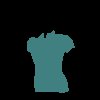polo: (26, 30, 75, 92)
